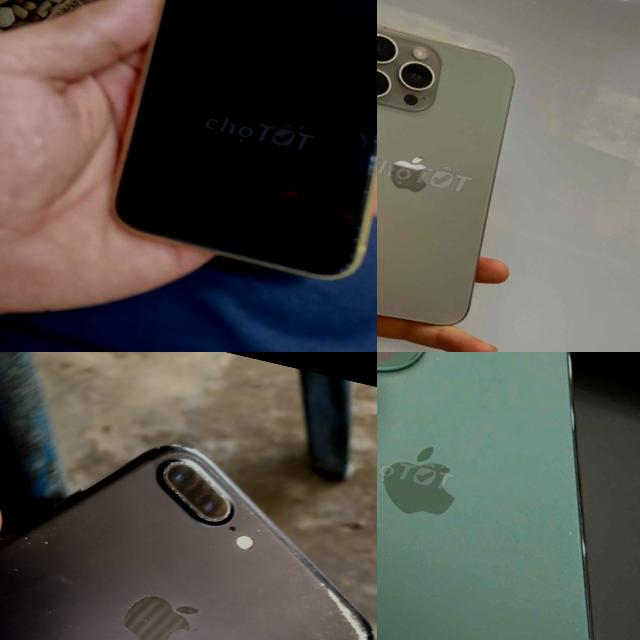gen_11: (96, 0, 377, 301)
gen_12_13: (377, 352, 640, 640)
gen_16: (377, 25, 513, 323)
gen_7_8: (0, 352, 377, 640)
